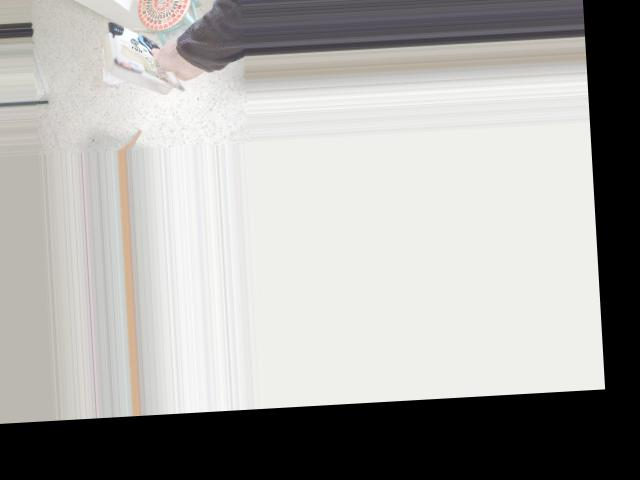cheese: (97, 3, 204, 107)
